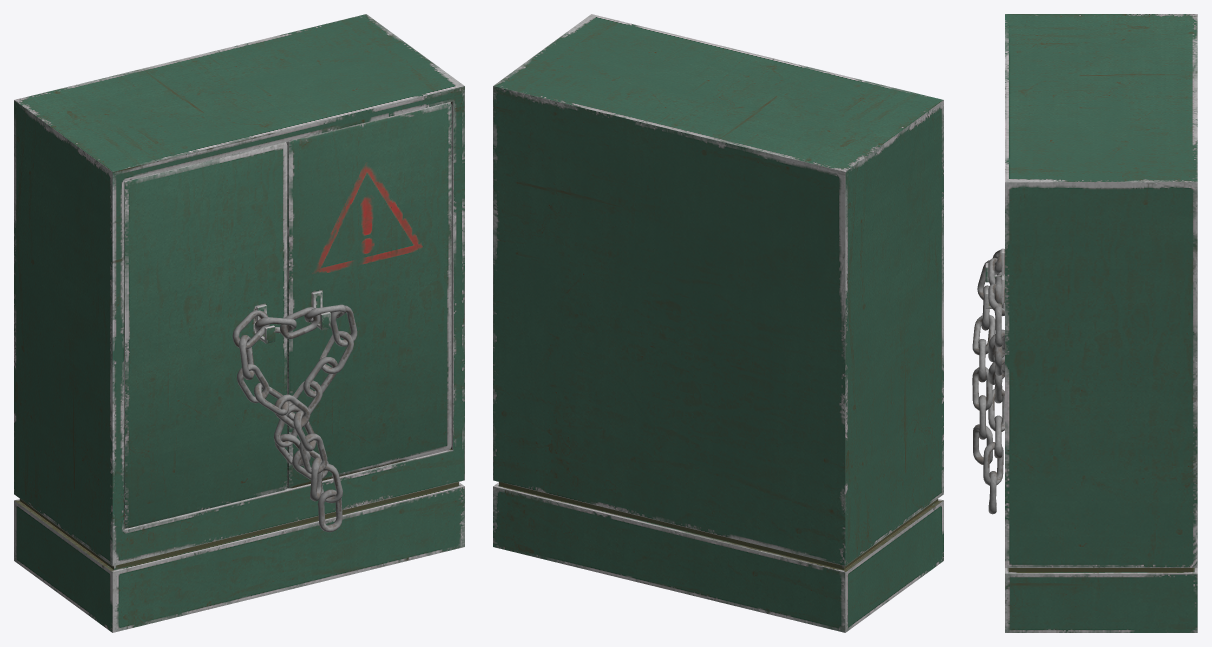
Rendered from EletricalBox.fbx.
3 renders of one model, left to right at view 1: azimuth 30°, elevation 25°; view 2: azimuth 150°, elevation 25°; view 3: azimuth 270°, elevation 25°, orthographic. The views are drawn at different scales.
Parts seen in each view (by area): view 1: ElectricalBox_000_low, ElectricalBox_001_low, ElectricalBox_014_low, Object001, Cylinder014; view 2: ElectricalBox_000_low; view 3: ElectricalBox_000_low, Object001, Cylinder014.
Boxes of the visible parts, left/top/right/bottom form: ElectricalBox_000_low: left=14, top=14, right=464, bottom=632; ElectricalBox_001_low: left=124, top=142, right=287, bottom=528; ElectricalBox_014_low: left=286, top=102, right=451, bottom=488; Object001: left=273, top=304, right=357, bottom=532; Cylinder014: left=232, top=310, right=327, bottom=501; ElectricalBox_000_low: left=493, top=14, right=943, bottom=632; ElectricalBox_000_low: left=1005, top=14, right=1197, bottom=632; Object001: left=983, top=276, right=1004, bottom=514; Cylinder014: left=972, top=249, right=1004, bottom=464.
Bounding box in the file's own units: 960 × 1200 × 543.
